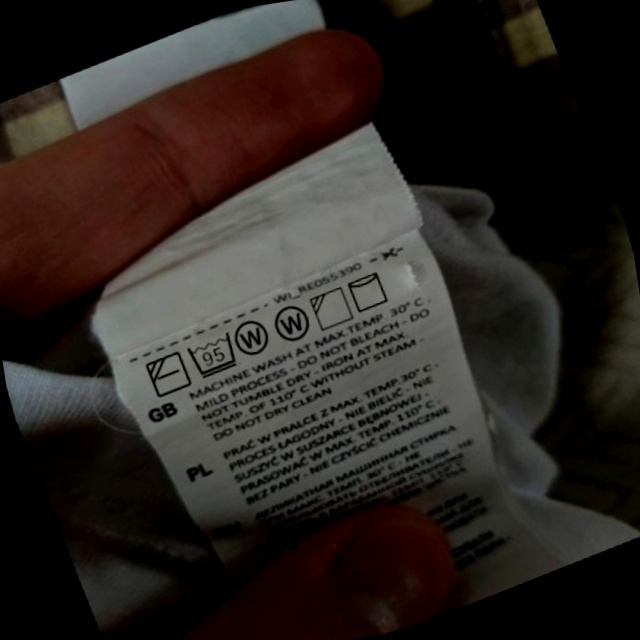95C: (182, 327, 245, 383)
dry_flat_in_shade: (140, 345, 196, 403)
line_dry: (341, 264, 395, 318)
shade_dry: (305, 281, 358, 335)
wet_clean: (227, 309, 278, 363), (267, 297, 318, 351)
